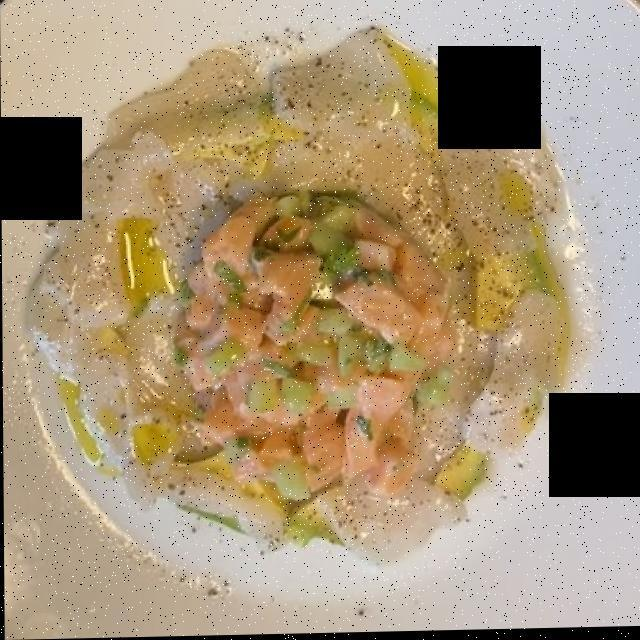avocado: (434, 247, 561, 507)
cucumber: (210, 197, 438, 411)
salmon: (185, 180, 439, 501)
